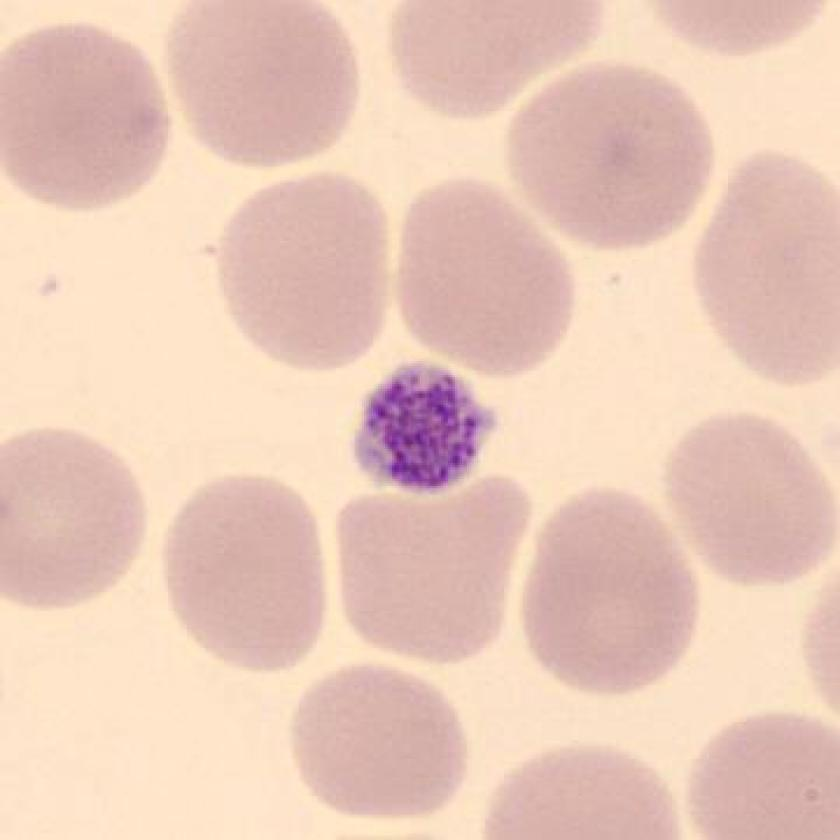platelets: (342, 351, 505, 510)
